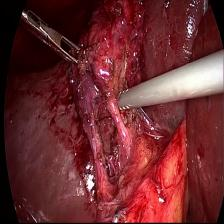Grasper: (26, 5, 83, 68)
Irrigator: (116, 82, 136, 115)
